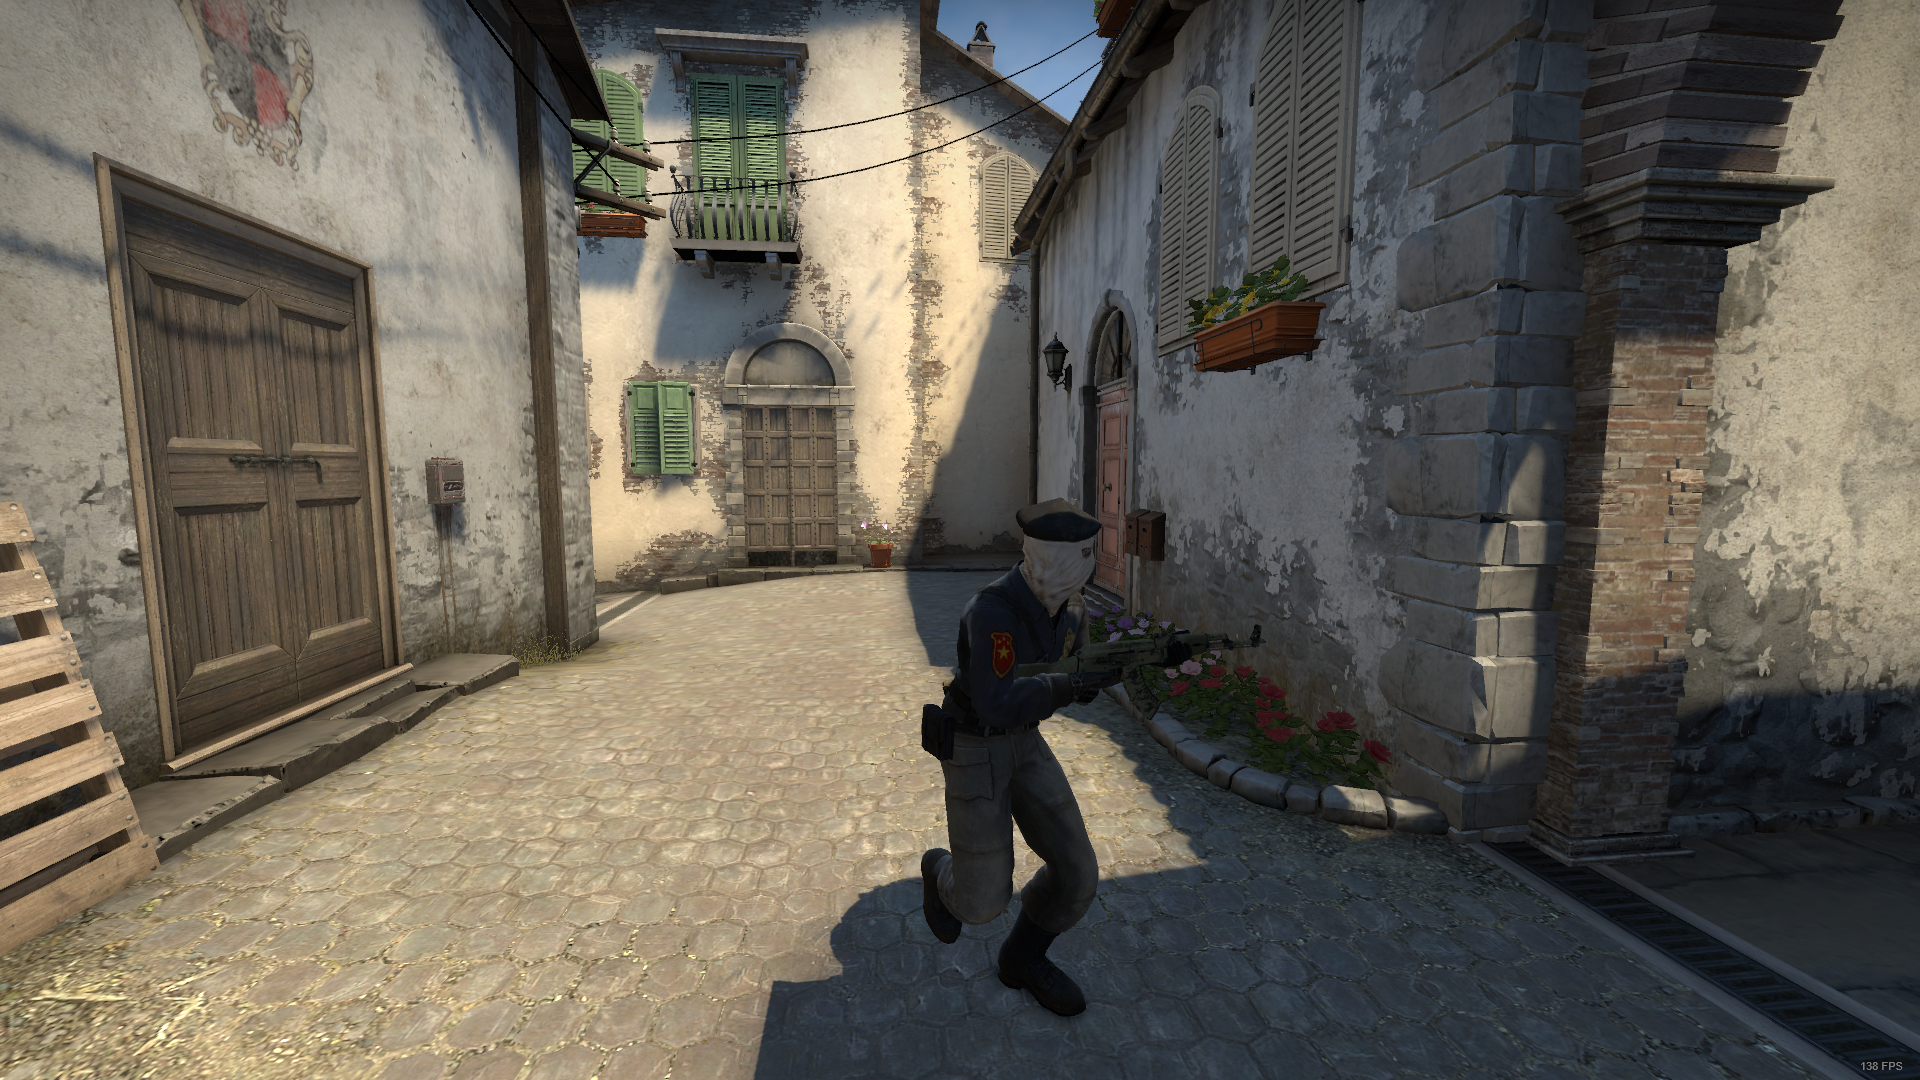t: (899, 510, 1160, 1026)
